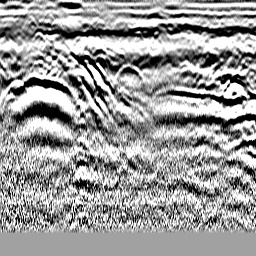cavity: (116, 62, 143, 83)
